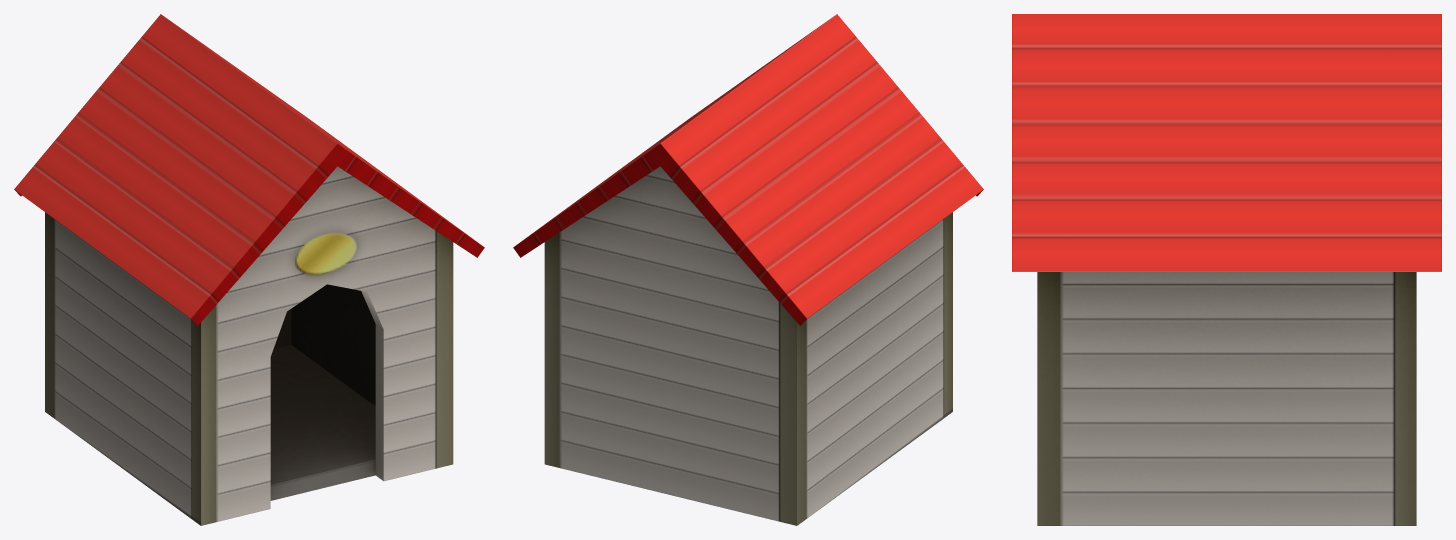
File: dogs_house.fbx
3 views of the same model, side by side, from view 1: azimuth 30°, elevation 25°; view 2: azimuth 150°, elevation 25°; view 3: azimuth 270°, elevation 25° (orthographic). The views are drawn at different scales.
Visible parts, largest first — view 1: dogs_house_geo; view 2: dogs_house_geo; view 3: dogs_house_geo.
Part boxes in pixels (box(x1,y1,x2,y2)): dogs_house_geo: box(14, 14, 484, 525); dogs_house_geo: box(513, 14, 983, 525); dogs_house_geo: box(1012, 14, 1441, 525).
Bounding box in the file's own units: 0.026 × 0.0304 × 0.0271.
